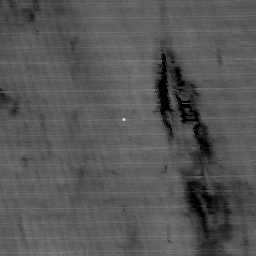Target: (120, 115, 127, 123)
